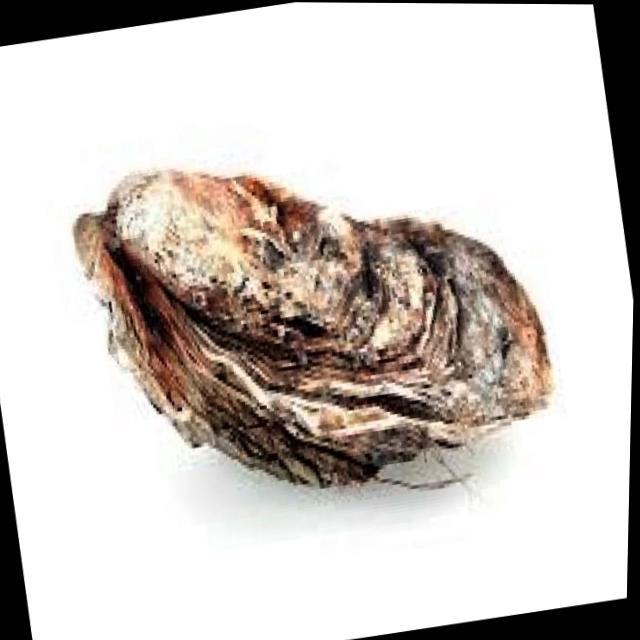Oyster-Closed: (76, 170, 551, 486)
